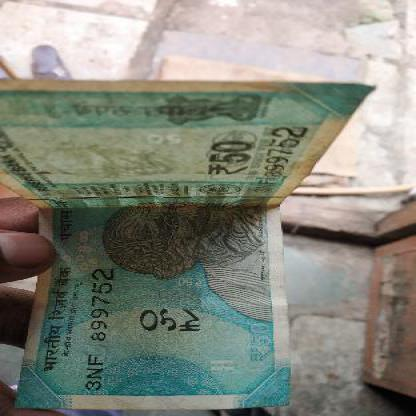New50Front: (0, 81, 296, 406)
